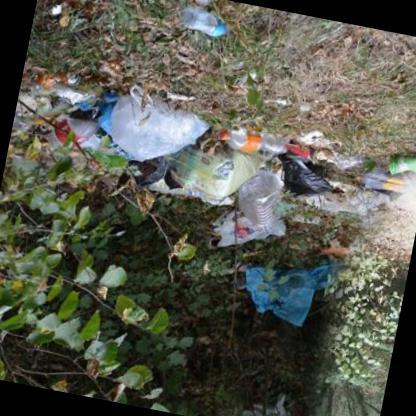Garbage: (157, 115, 316, 216), (212, 146, 300, 262), (315, 129, 415, 228), (93, 90, 205, 168), (250, 244, 338, 336), (174, 0, 239, 41)
